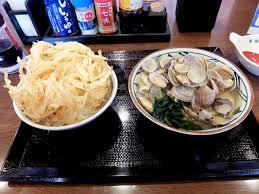asari: (132, 50, 245, 132)
kakiage: (10, 42, 115, 126)
